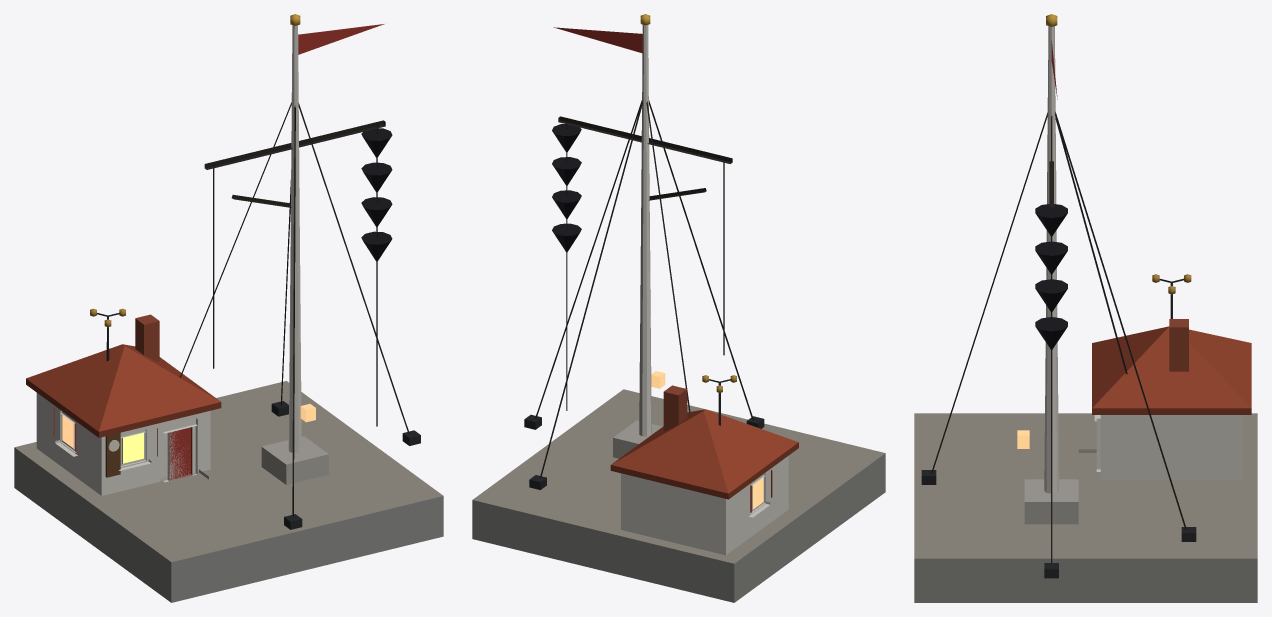
File: stormstation.glb
The picture shows the model from 3 angles, left to right: view 1: azimuth 30°, elevation 25°; view 2: azimuth 150°, elevation 25°; view 3: azimuth 270°, elevation 25°; orthographic projection. The views are drawn at different scales.
Parts seen in each view (by area): view 1: stormstation_body, pennant, stormstation_body_windows, cone_3, cone_2; view 2: stormstation_body, pennant; view 3: stormstation_body, cone_1, cone_3, cone_2, cone_0.
Boxes of the visible parts, x1,y1,x2,y2 form: stormstation_body: (14, 14, 443, 602); pennant: (298, 24, 384, 54); stormstation_body_windows: (62, 415, 143, 463); cone_3: (361, 231, 392, 262); cone_2: (361, 197, 392, 227); stormstation_body: (472, 14, 885, 602); pennant: (553, 27, 642, 53); stormstation_body: (914, 14, 1257, 602); cone_1: (1035, 241, 1067, 274); cone_3: (1035, 317, 1067, 350); cone_2: (1035, 279, 1067, 312); cone_0: (1035, 204, 1067, 237).
Bounding box in the file's own units: 15.9 × 24.45 × 14.
